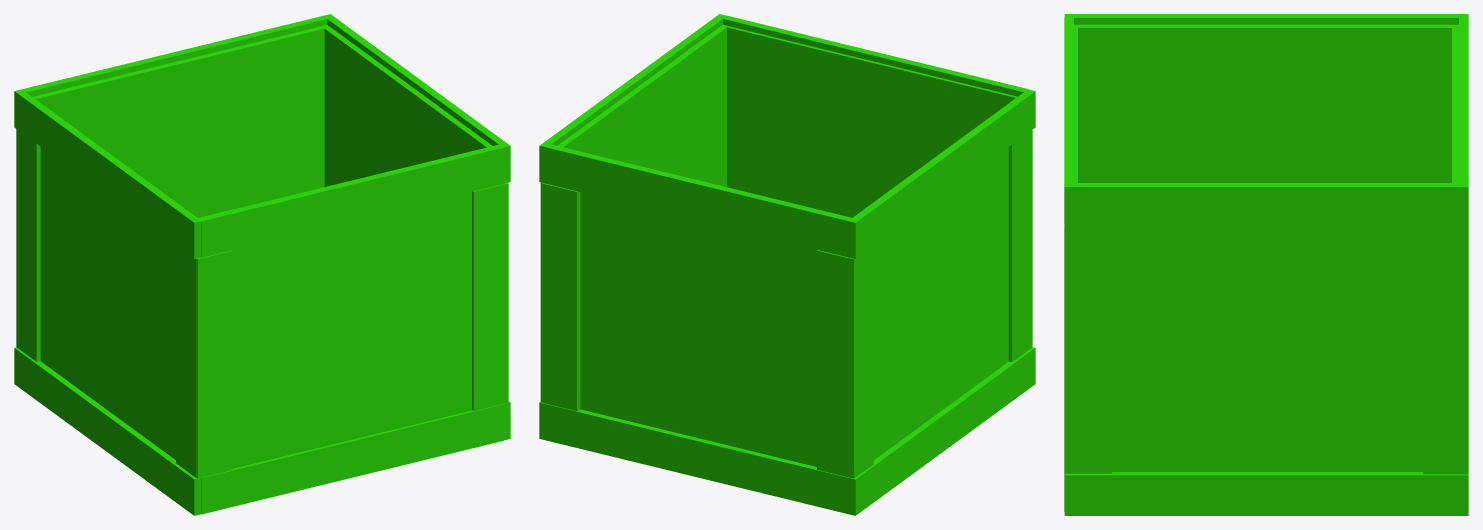
File: Woodbox_05_Lod0.fbx
3 views of the same model, side by side, from view 1: azimuth 30°, elevation 25°; view 2: azimuth 150°, elevation 25°; view 3: azimuth 270°, elevation 25° (orthographic). The views are drawn at different scales.
Parts seen in each view (by area): view 1: Woodbox_05_Lod0; view 2: Woodbox_05_Lod0; view 3: Woodbox_05_Lod0.
Part boxes in pixels (x1=…): Woodbox_05_Lod0: x1=14, y1=14, x2=510, y2=515; Woodbox_05_Lod0: x1=539, y1=14, x2=1035, y2=515; Woodbox_05_Lod0: x1=1064, y1=14, x2=1468, y2=515.
Bounding box in the file's own units: 143 × 126 × 141.
